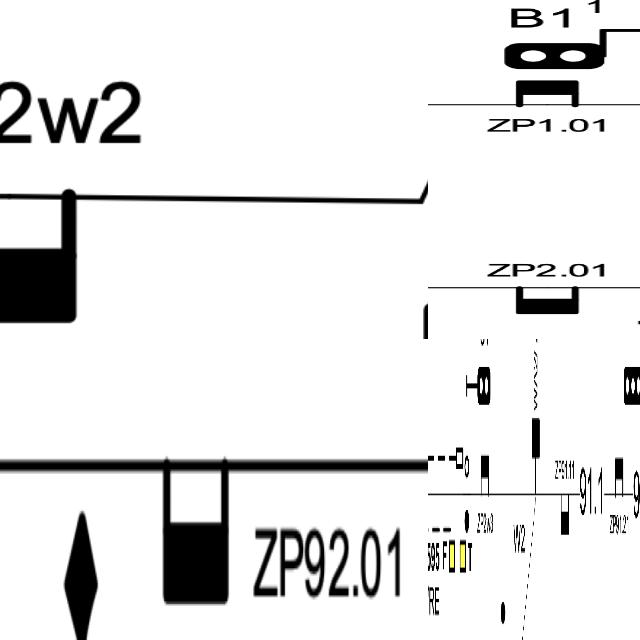radzaehler: (0, 176, 87, 334), (156, 442, 232, 613), (506, 76, 598, 113), (508, 283, 590, 320), (613, 448, 625, 506), (559, 483, 571, 540), (479, 444, 490, 504)
tracknumber: (578, 463, 604, 524)
weiche: (530, 410, 542, 511)
